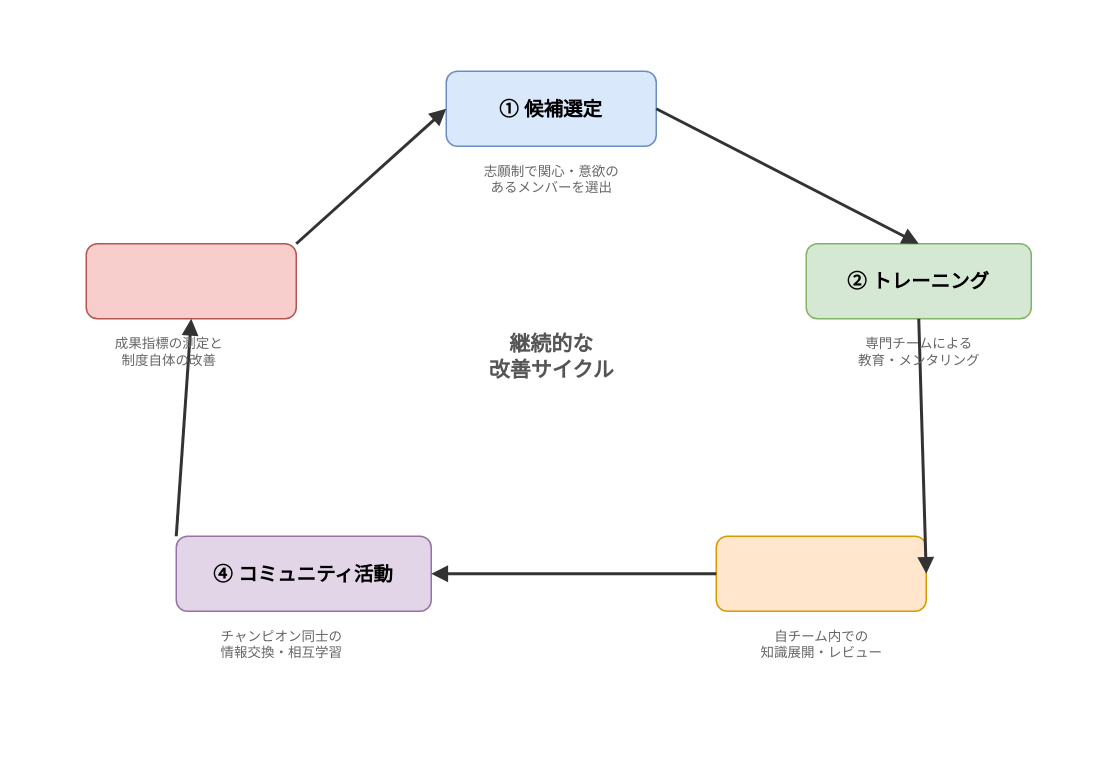
This 1101x771 diagram has some shape labels left out. The box of each missing label's shape, as (x1, y1, x2, y2) in pixels:
③ 実践活動: (715, 535, 926, 611)
⑤ 評価・改善: (85, 242, 296, 319)
